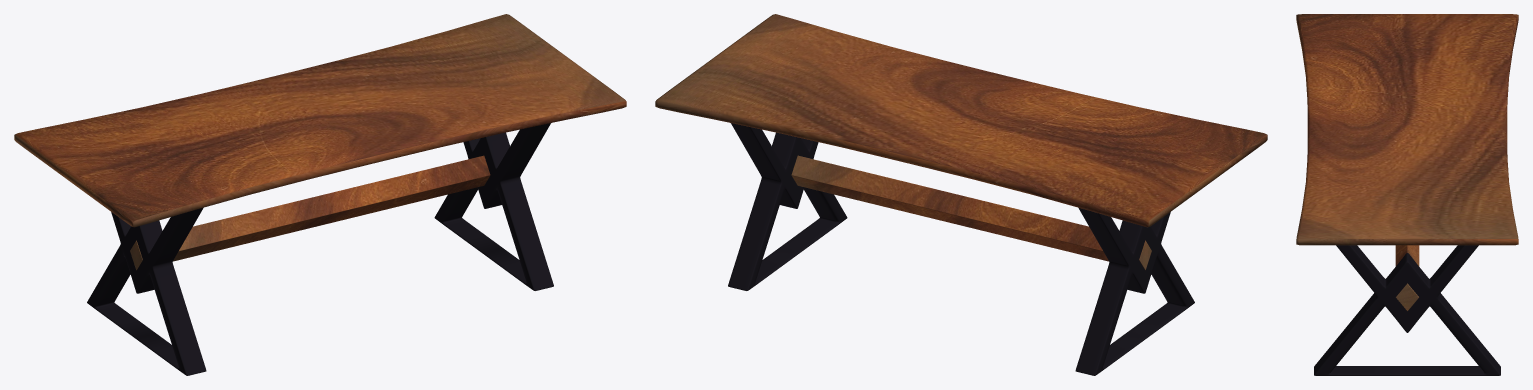
Rendered from TABLE1.fbx.
3 renders of one model, left to right at view 1: azimuth 30°, elevation 25°; view 2: azimuth 150°, elevation 25°; view 3: azimuth 270°, elevation 25°, orthographic. The views are drawn at different scales.
Visible parts, largest first — view 1: Cube.002; view 2: Cube.002; view 3: Cube.002.
Part boxes in pixels (x1,y1,x2,y2): Cube.002: [14, 14, 626, 375]; Cube.002: [655, 14, 1267, 375]; Cube.002: [1296, 14, 1518, 375].
Bounding box in the file's own units: 244 × 84.82 × 102.
2 materials, 1 textured.
